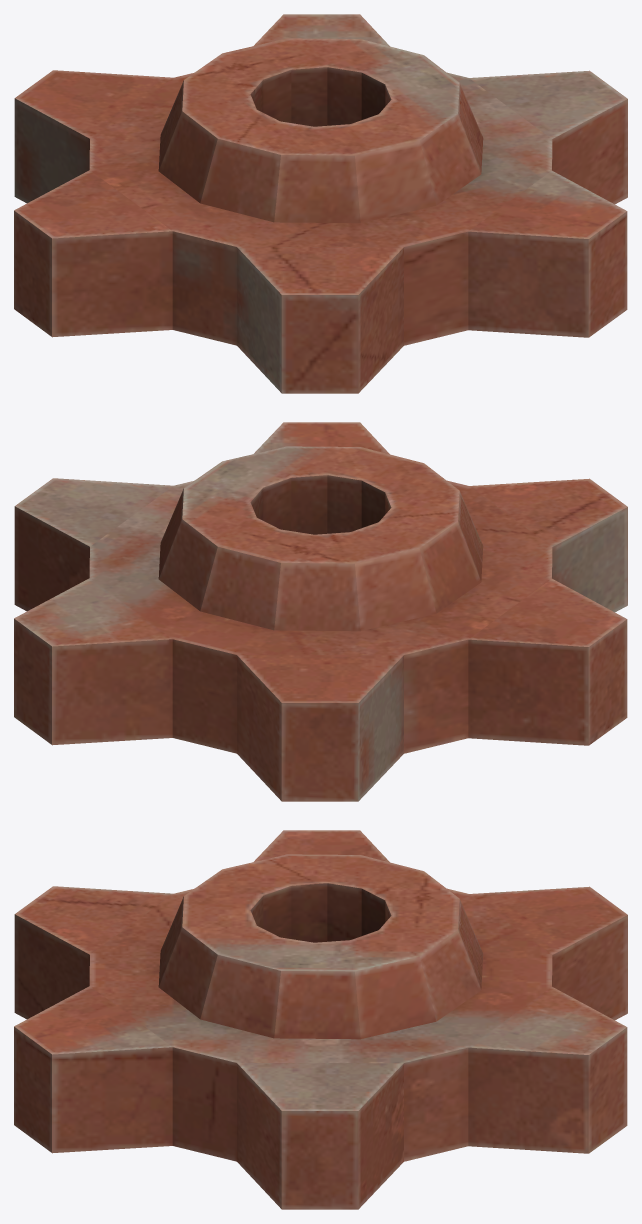
The model's file is CopperGear.glb.
The picture shows the model from 3 angles, top to bottom: view 1: azimuth 30°, elevation 25°; view 2: azimuth 150°, elevation 25°; view 3: azimuth 270°, elevation 25°; orthographic projection.
Parts seen in each view (by area): view 1: CopperGear; view 2: CopperGear; view 3: CopperGear.
Part boxes in pixels (x1,y1,x2,y2): CopperGear: (14,14,627,393); CopperGear: (14,422,627,801); CopperGear: (14,830,627,1209).
Size of the model in its own units: 0.4552 by 0.1182 by 0.4208.
Materials: 1 (1 with a texture image).
